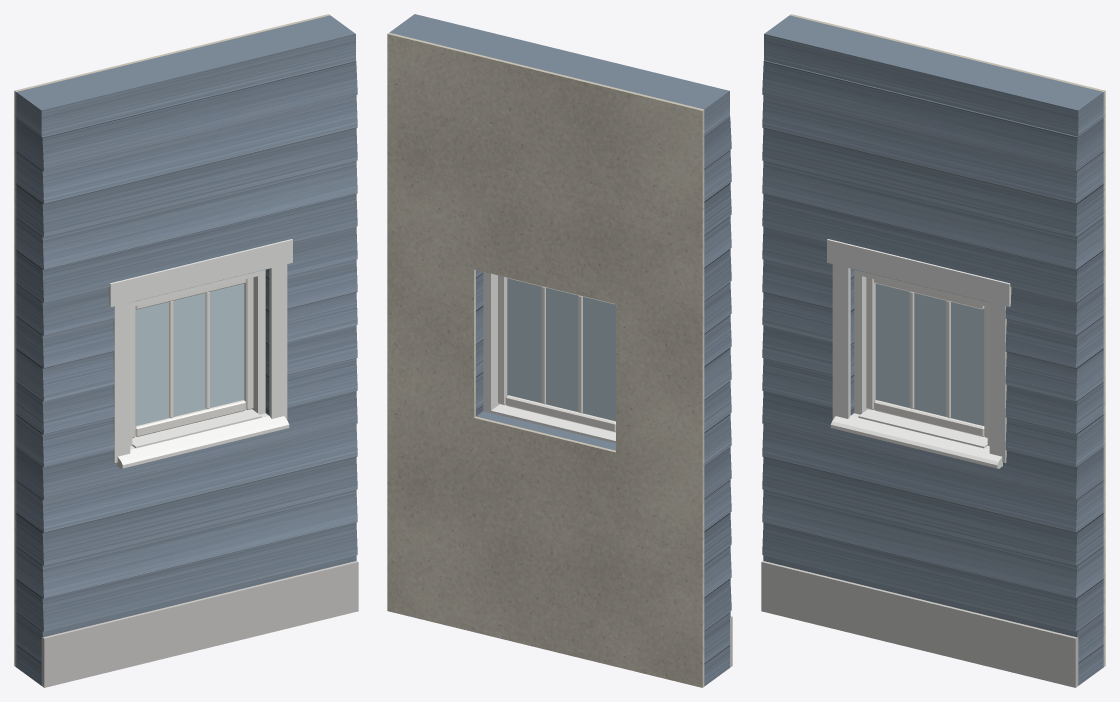
File: wall_garage_window.glb
3 renders of one model, left to right at view 1: azimuth 30°, elevation 25°; view 2: azimuth 150°, elevation 25°; view 3: azimuth 330°, elevation 25°, orthographic.
Visible parts, largest first — view 1: wall_garage_window_siding, wall_garage_window_concrete, wall_garage_window_trim, wall_garage_window_glass, wall_garage_window_sash, wall_garage_window_frame, wall_garage_window_plaster; view 2: wall_garage_window_plaster, wall_garage_window_siding, wall_garage_window_glass, wall_garage_window_sash, wall_garage_window_frame, wall_garage_window_trim; view 3: wall_garage_window_siding, wall_garage_window_concrete, wall_garage_window_trim, wall_garage_window_glass, wall_garage_window_sash, wall_garage_window_frame, wall_garage_window_plaster.
Boxes of the visible parts, bbox=[...] form: wall_garage_window_siding: bbox=[16, 15, 357, 685]; wall_garage_window_concrete: bbox=[41, 561, 358, 687]; wall_garage_window_trim: bbox=[108, 239, 292, 468]; wall_garage_window_glass: bbox=[135, 283, 244, 425]; wall_garage_window_sash: bbox=[132, 277, 253, 437]; wall_garage_window_frame: bbox=[130, 269, 265, 445]; wall_garage_window_plaster: bbox=[14, 14, 329, 666]; wall_garage_window_plaster: bbox=[387, 32, 704, 687]; wall_garage_window_siding: bbox=[389, 14, 731, 686]; wall_garage_window_glass: bbox=[507, 278, 615, 421]; wall_garage_window_sash: bbox=[498, 275, 615, 432]; wall_garage_window_frame: bbox=[483, 272, 499, 412]; wall_garage_window_trim: bbox=[491, 404, 615, 443]; wall_garage_window_siding: bbox=[762, 15, 1103, 685]; wall_garage_window_concrete: bbox=[761, 561, 1078, 687]; wall_garage_window_trim: bbox=[827, 239, 1011, 468]; wall_garage_window_glass: bbox=[875, 283, 984, 425]; wall_garage_window_sash: bbox=[866, 277, 987, 437]; wall_garage_window_frame: bbox=[854, 269, 989, 445]; wall_garage_window_plaster: bbox=[790, 14, 1105, 666].
Bounding box in the file's own units: 2 × 3.5 × 0.38.
Materials: 7 (2 with a texture image).
